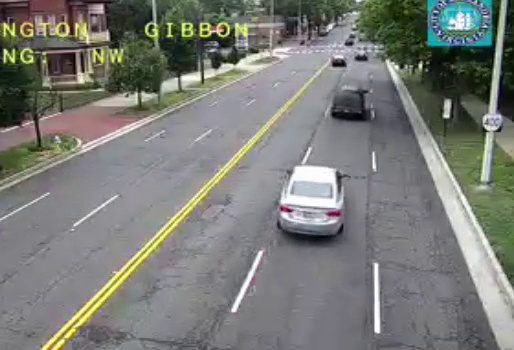car: (278, 166, 345, 234), (332, 86, 365, 118)
